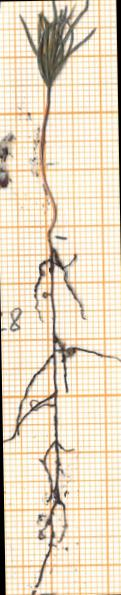flower: (16, 0, 103, 86)
root: (0, 236, 121, 595)
stem: (34, 87, 62, 234)
